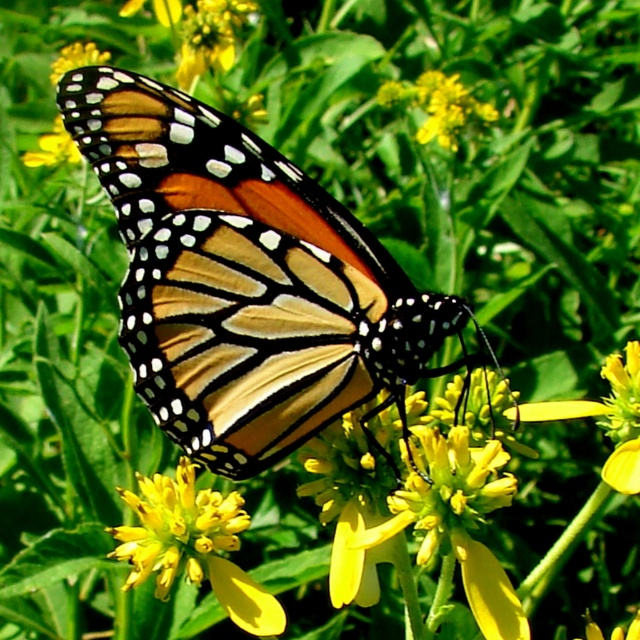Butterfly: (55, 67, 519, 482)
